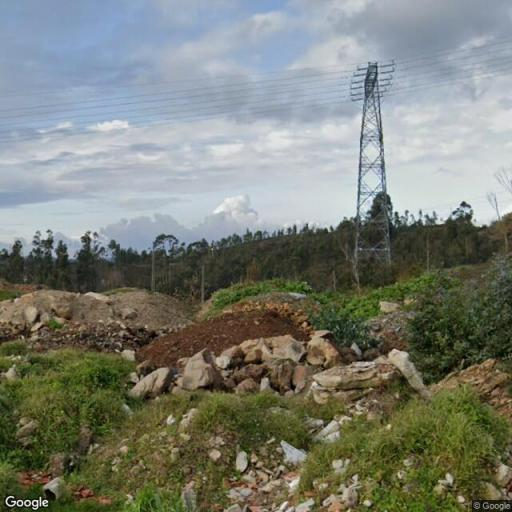ss_1: (346, 57, 400, 288)
